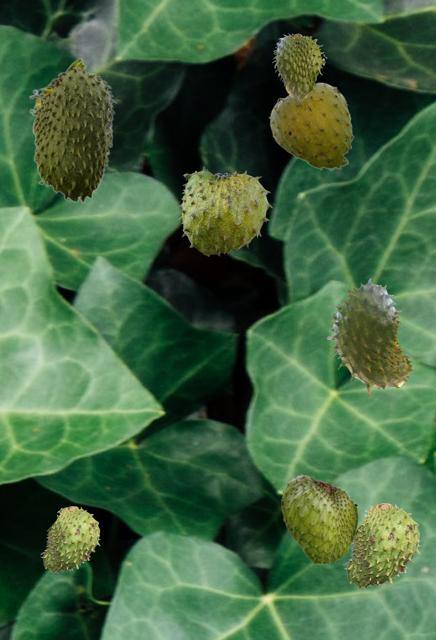guyabano: (29, 57, 116, 202), (327, 278, 412, 397), (178, 166, 271, 255), (268, 82, 353, 170), (281, 473, 357, 563), (343, 503, 419, 588), (40, 506, 99, 572), (272, 33, 326, 100)
